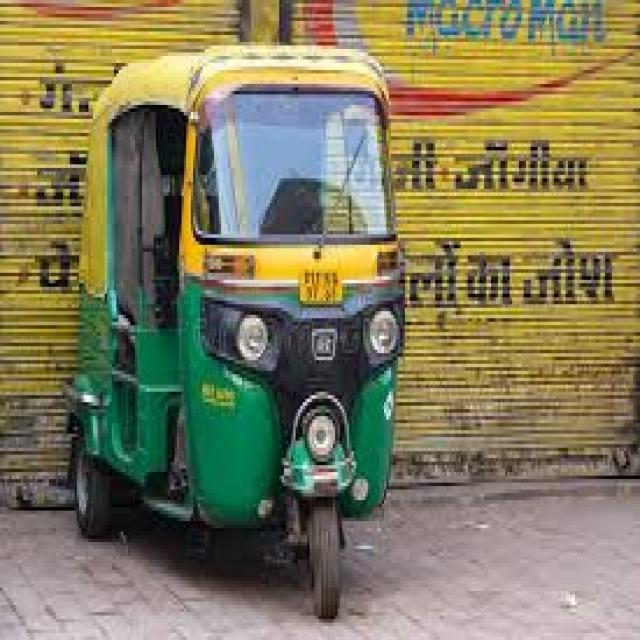Auto: (46, 38, 411, 630)
